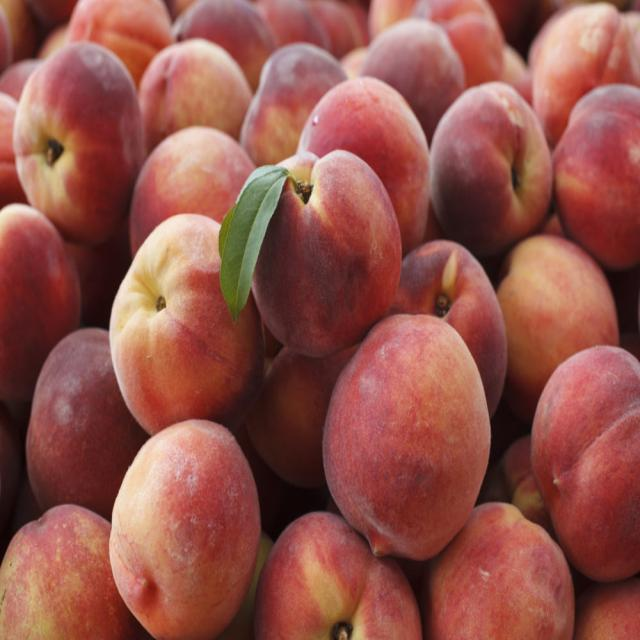peach: (323, 315, 490, 559), (110, 216, 264, 434), (109, 420, 260, 639), (252, 151, 401, 357), (13, 41, 143, 243), (530, 346, 639, 581), (26, 328, 149, 517), (430, 83, 552, 258), (254, 512, 422, 639), (390, 241, 506, 416), (426, 503, 574, 639), (497, 234, 619, 394), (0, 505, 141, 639), (552, 84, 639, 270), (0, 206, 80, 400), (139, 38, 252, 154)
